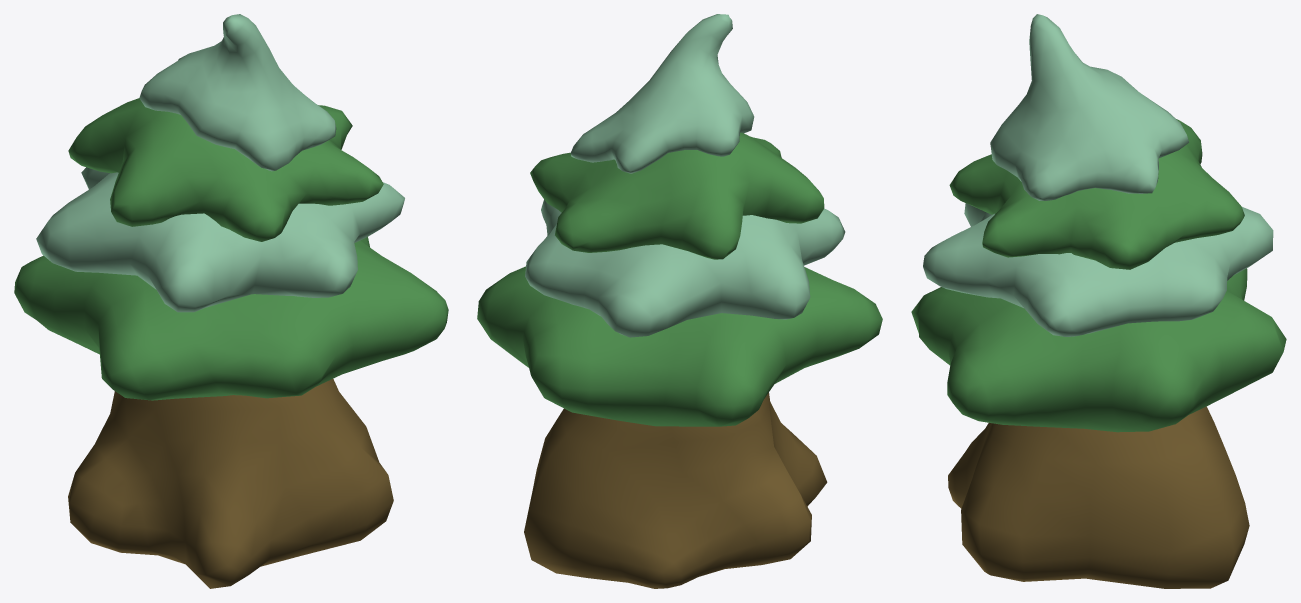
Rendered from PineTree1.fbx.
The picture shows the model from 3 angles, left to right: view 1: azimuth 30°, elevation 25°; view 2: azimuth 150°, elevation 25°; view 3: azimuth 270°, elevation 25°; orthographic projection. The views are drawn at different scales.
Parts seen in each view (by area): view 1: PinetreeDecim2:Group4048, PinetreeDecim2:Group4108, PinetreeDecim2:Group4093, PinetreeDecim2:Group4078, PinetreeDecim2:Group4063; view 2: PinetreeDecim2:Group4048, PinetreeDecim2:Group4108, PinetreeDecim2:Group4078, PinetreeDecim2:Group4093, PinetreeDecim2:Group4063; view 3: PinetreeDecim2:Group4048, PinetreeDecim2:Group4108, PinetreeDecim2:Group4093, PinetreeDecim2:Group4063, PinetreeDecim2:Group4078.
Part boxes in pixels (x1=…): PinetreeDecim2:Group4048: x1=68, y1=379, x2=393, y2=588; PinetreeDecim2:Group4108: x1=14, y1=237, x2=448, y2=400; PinetreeDecim2:Group4093: x1=36, y1=167, x2=404, y2=312; PinetreeDecim2:Group4078: x1=68, y1=98, x2=383, y2=241; PinetreeDecim2:Group4063: x1=139, y1=14, x2=336, y2=171; PinetreeDecim2:Group4048: x1=524, y1=392, x2=827, y2=588; PinetreeDecim2:Group4108: x1=477, y1=266, x2=882, y2=426; PinetreeDecim2:Group4078: x1=530, y1=132, x2=824, y2=259; PinetreeDecim2:Group4093: x1=525, y1=199, x2=845, y2=337; PinetreeDecim2:Group4063: x1=570, y1=14, x2=754, y2=173; PinetreeDecim2:Group4048: x1=948, y1=406, x2=1249, y2=588; PinetreeDecim2:Group4108: x1=911, y1=268, x2=1286, y2=432; PinetreeDecim2:Group4093: x1=923, y1=203, x2=1273, y2=336; PinetreeDecim2:Group4063: x1=990, y1=14, x2=1188, y2=200; PinetreeDecim2:Group4078: x1=949, y1=119, x2=1244, y2=269.
Bounding box in the file's own units: 3.87 × 6.03 × 3.85.
